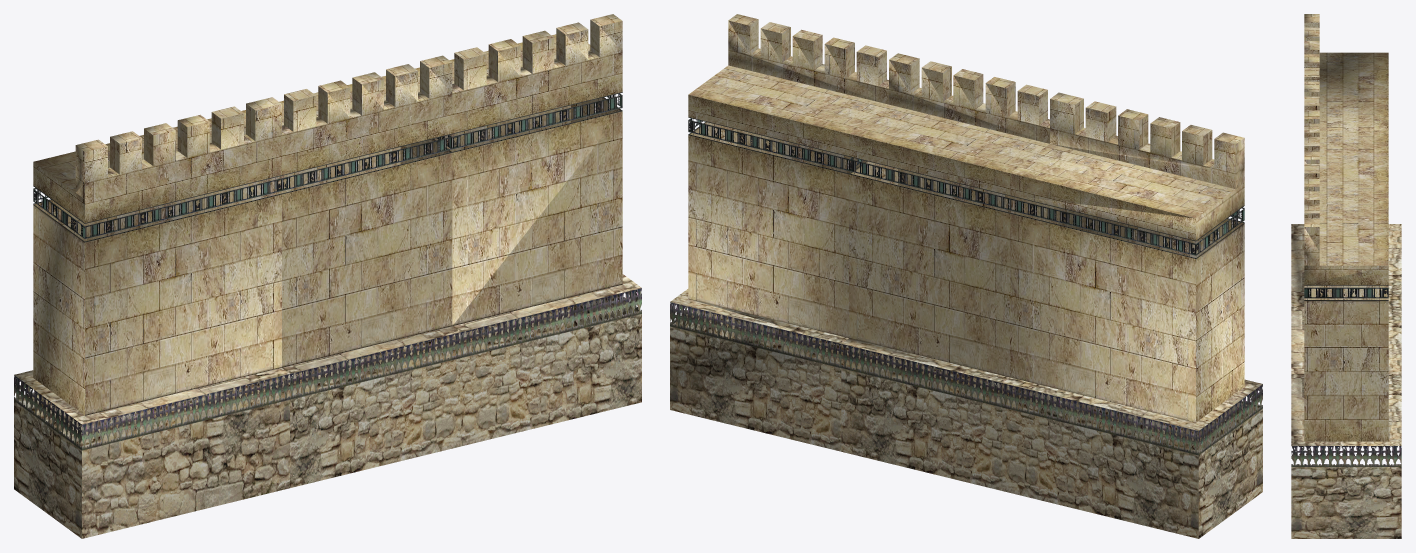
The model's file is kart_wall_long.dae.
3 renders of one model, left to right at view 1: azimuth 30°, elevation 25°; view 2: azimuth 150°, elevation 25°; view 3: azimuth 270°, elevation 25°, orthographic. The views are drawn at different scales.
Parts seen in each view (by area): view 1: Box01; view 2: Box01; view 3: Box01.
Boxes of the visible parts, x1=… form: Box01: x1=14, y1=14, x2=641, y2=538; Box01: x1=670, y1=14, x2=1262, y2=538; Box01: x1=1291, y1=14, x2=1401, y2=538.
Size of the model in its own units: 24.88 by 5.23 by 16.06.
